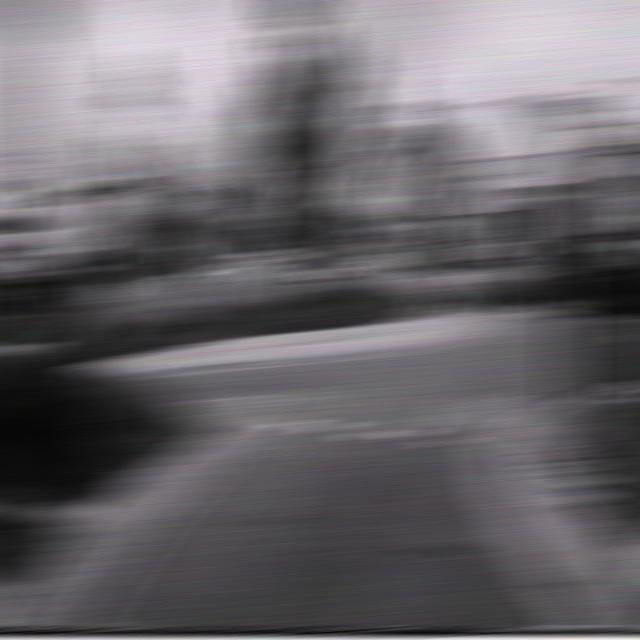yield: (527, 94, 604, 188)
